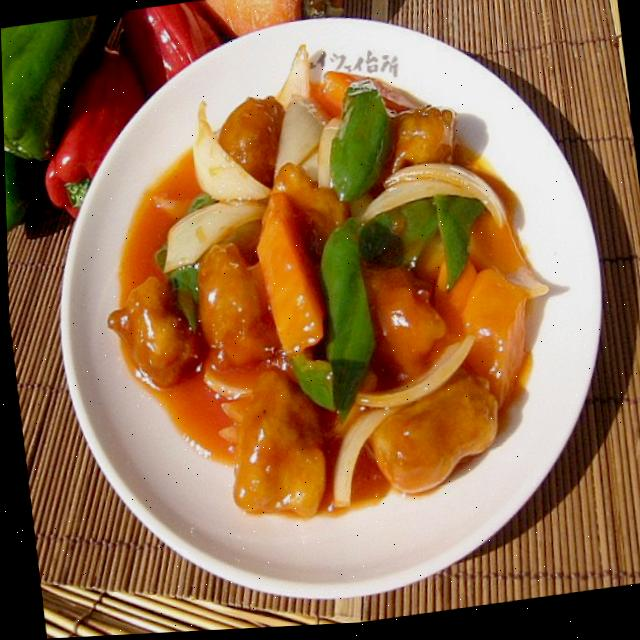猪肉菜式: (48, 10, 453, 451)
